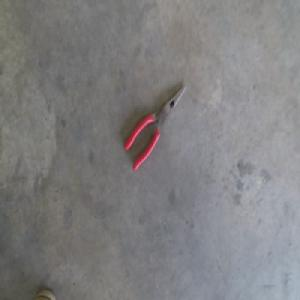Pliers: (122, 86, 185, 174)
